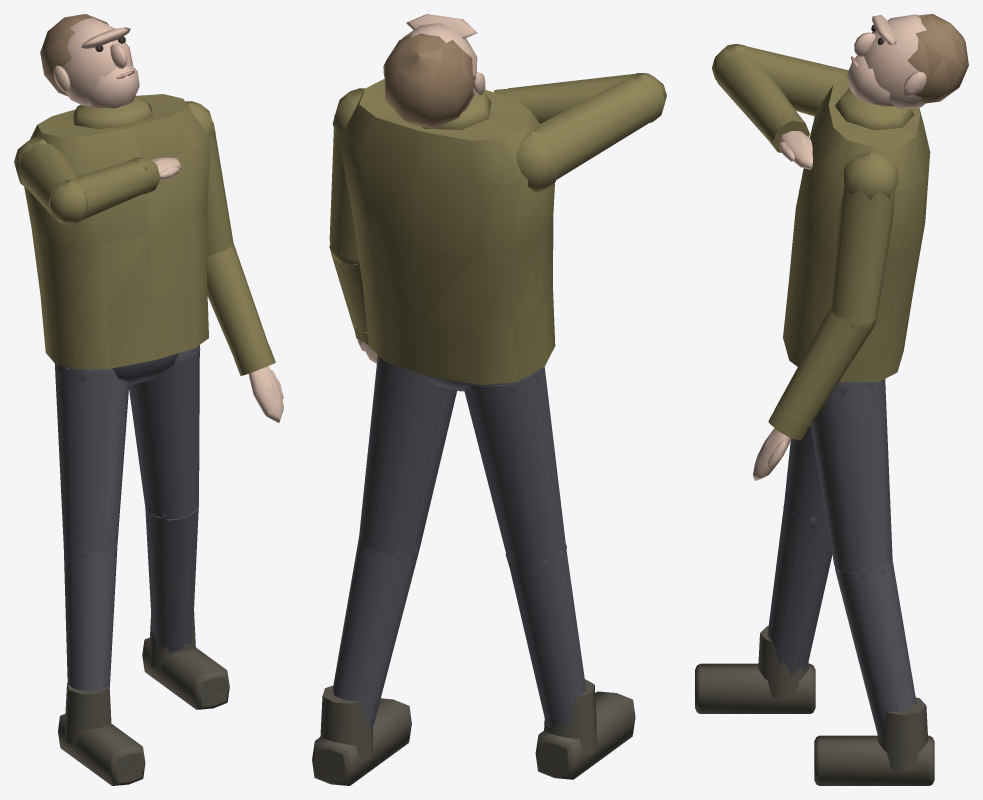
Rendered from storm_crowd_watching_a.glb.
The picture shows the model from 3 angles, left to right: view 1: azimuth 30°, elevation 25°; view 2: azimuth 150°, elevation 25°; view 3: azimuth 270°, elevation 25°; orthographic projection. The views are drawn at different scales.
Parts seen in each view (by area): view 1: body; view 2: body; view 3: body.
Part boxes in pixels (x1,y1,x2,y2): body: (14,14,283,785); body: (312,14,666,785); body: (695,14,968,785).
Bounding box in the file's own units: 0.6236 × 1.62 × 0.5565.
